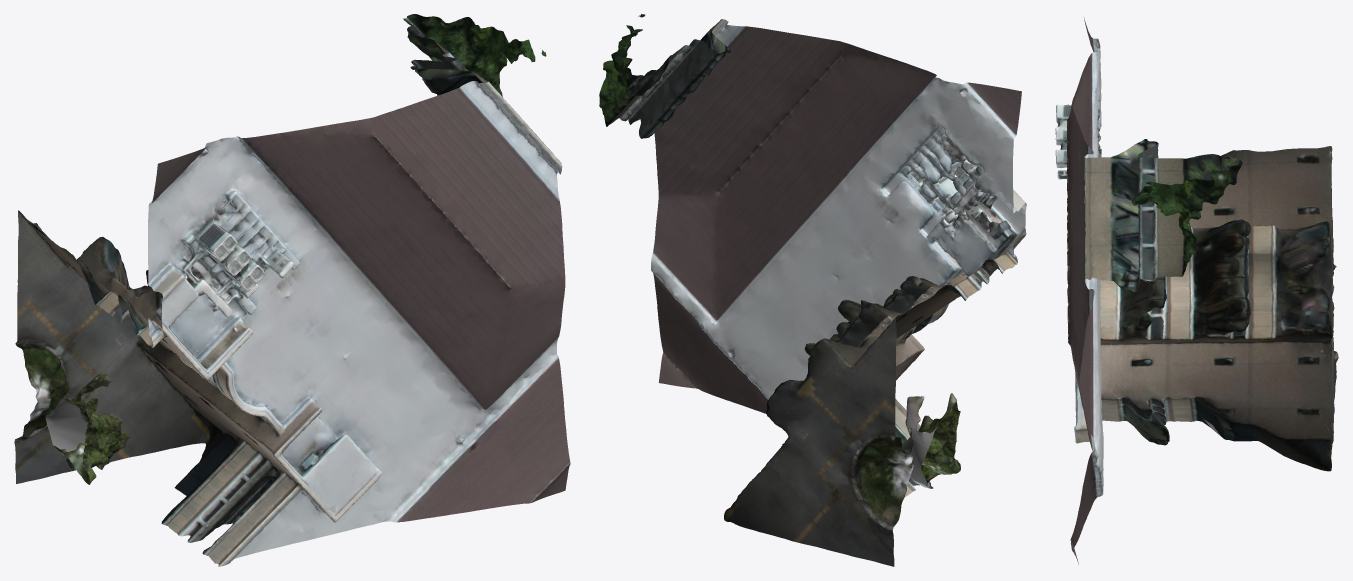
Rendered from Tile_+009_+024.fbx.
3 renders of one model, left to right at view 1: azimuth 30°, elevation 25°; view 2: azimuth 150°, elevation 25°; view 3: azimuth 270°, elevation 25°, orthographic. The views are drawn at different scales.
Visible parts, largest first — view 1: DefaultName; view 2: DefaultName; view 3: DefaultName.
Boxes of the visible parts, x1,y1,x2,y2 form: DefaultName: (14,14,570,566); DefaultName: (599,14,1026,566); DefaultName: (1055,17,1338,564).
Bounding box in the file's own units: 22.54 × 22.54 × 15.34.
